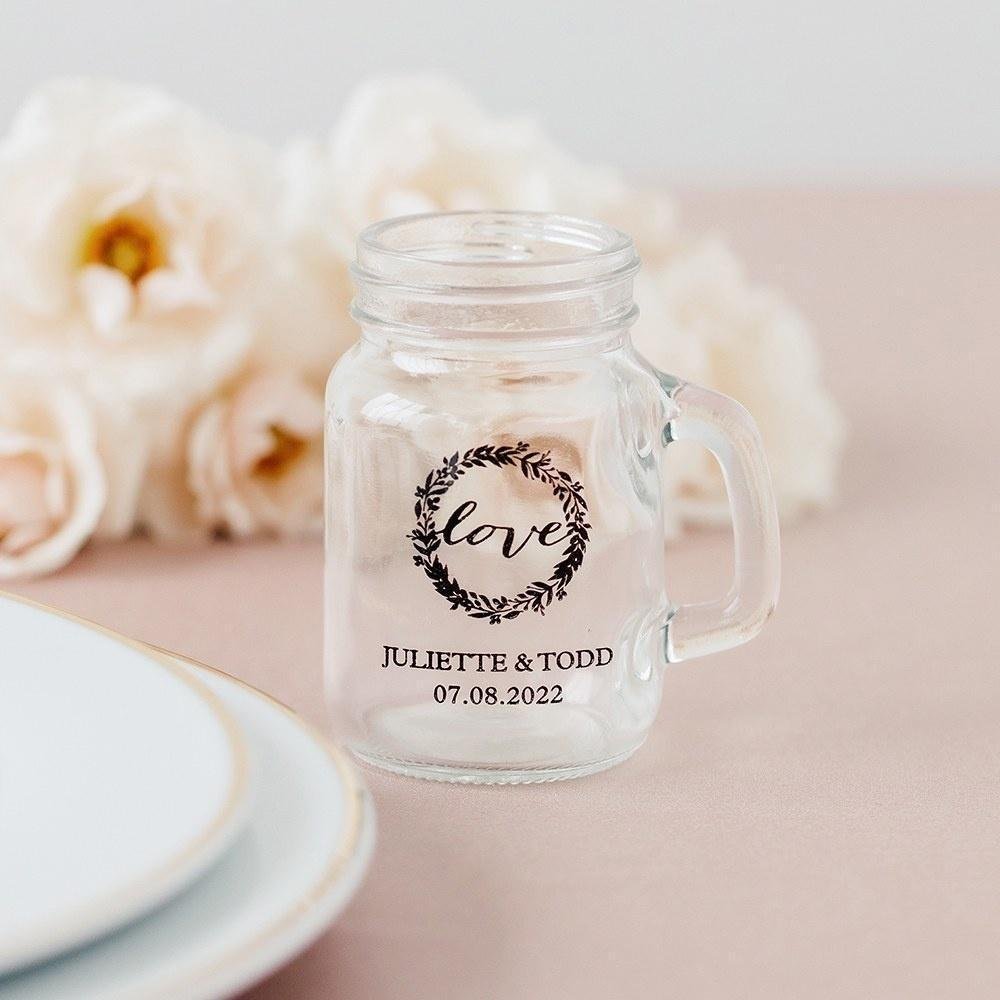glass-mug: (312, 203, 792, 790)
